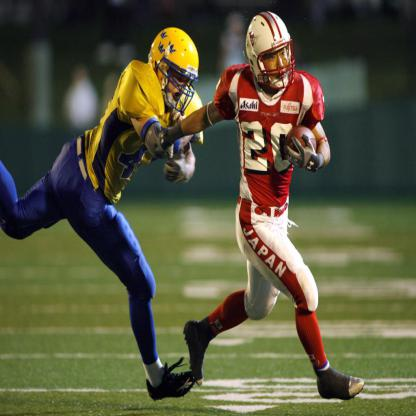face: (259, 41, 293, 88), (165, 53, 191, 110)
